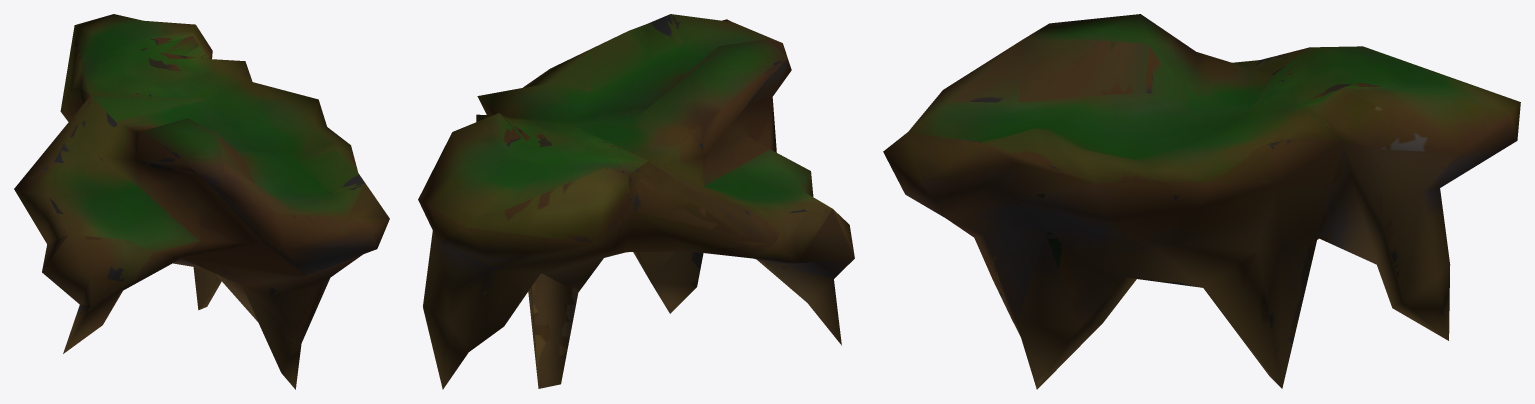
File: mediumIsland2LowPoly.fbx
The picture shows the model from 3 angles, left to right: view 1: azimuth 30°, elevation 25°; view 2: azimuth 150°, elevation 25°; view 3: azimuth 270°, elevation 25°; orthographic projection. The views are drawn at different scales.
Parts seen in each view (by area): view 1: Icosphere.001; view 2: Icosphere.001; view 3: Icosphere.001.
Boxes of the visible parts, <box> form: Icosphere.001: <box>14,14,389,389</box>; Icosphere.001: <box>418,14,854,389</box>; Icosphere.001: <box>883,14,1520,389</box>.
Bounding box in the file's own units: 26606 × 21861 × 40186.
